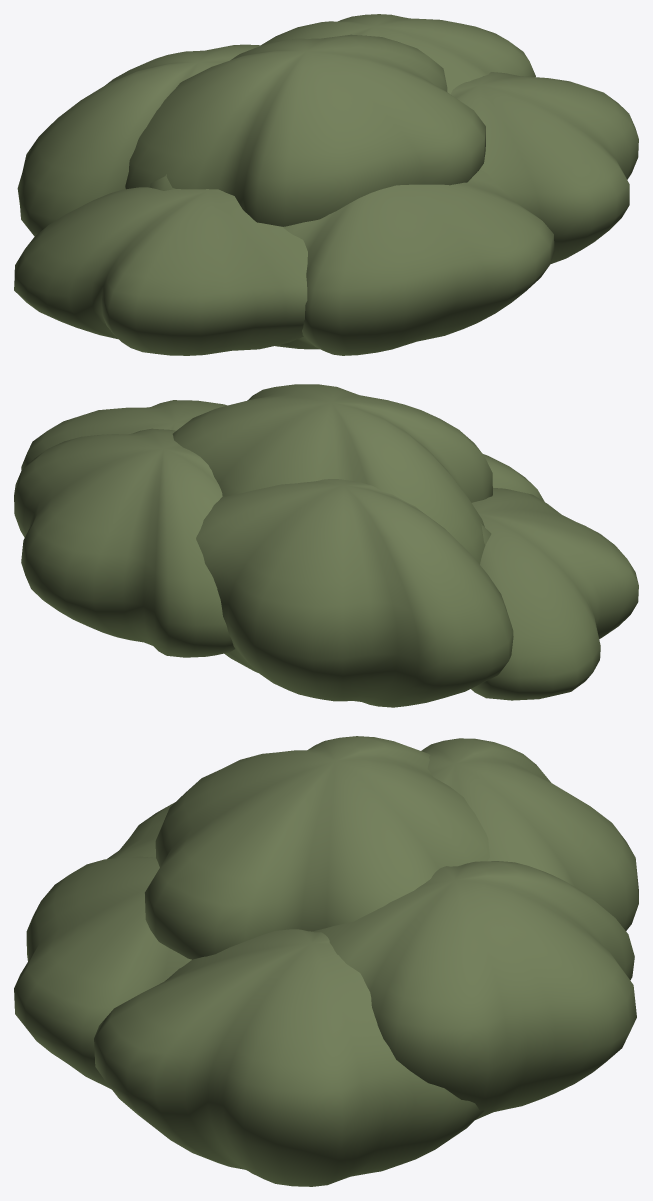
File: shrub-a.glb
The picture shows the model from 3 angles, top to bottom: view 1: azimuth 30°, elevation 25°; view 2: azimuth 150°, elevation 25°; view 3: azimuth 270°, elevation 25°; orthographic projection. The views are drawn at different scales.
Parts seen in each view (by area): view 1: shrub-a-canopy-upper-middle, shrub-a-canopy-left-low, shrub-a-canopy-front-middle, shrub-a-canopy-right-low, shrub-a-canopy-back-left, shrub-a-canopy-back-right; view 2: shrub-a-canopy-back-left, shrub-a-canopy-back-right, shrub-a-canopy-upper-middle, shrub-a-canopy-left-low, shrub-a-canopy-right-low, shrub-a-canopy-front-middle; view 3: shrub-a-canopy-right-low, shrub-a-canopy-back-right, shrub-a-canopy-upper-middle, shrub-a-canopy-front-middle, shrub-a-canopy-back-left, shrub-a-canopy-left-low.
Boxes of the visible parts, box(x1,y1,x2,y2) form: shrub-a-canopy-upper-middle: box(125, 34, 485, 226); shrub-a-canopy-left-low: box(14, 187, 307, 355); shrub-a-canopy-front-middle: box(275, 169, 554, 355); shrub-a-canopy-right-low: box(451, 72, 638, 264); shrub-a-canopy-back-left: box(17, 44, 261, 236); shrub-a-canopy-back-right: box(261, 14, 535, 94); shrub-a-canopy-back-left: box(196, 479, 513, 707); shrub-a-canopy-back-right: box(14, 428, 235, 657); shrub-a-canopy-upper-middle: box(172, 384, 492, 564); shrub-a-canopy-left-low: box(471, 488, 638, 700); shrub-a-canopy-right-low: box(21, 400, 227, 469); shrub-a-canopy-front-middle: box(483, 454, 544, 501); shrub-a-canopy-right-low: box(94, 929, 483, 1186); shrub-a-canopy-back-right: box(312, 861, 636, 1119); shrub-a-canopy-upper-middle: box(145, 736, 489, 959); shrub-a-canopy-front-middle: box(14, 856, 191, 1089); shrub-a-canopy-back-left: box(421, 738, 638, 930); shrub-a-canopy-left-low: box(107, 802, 174, 859).
Size of the model in its own units: 1.65 by 0.68 by 1.25.
